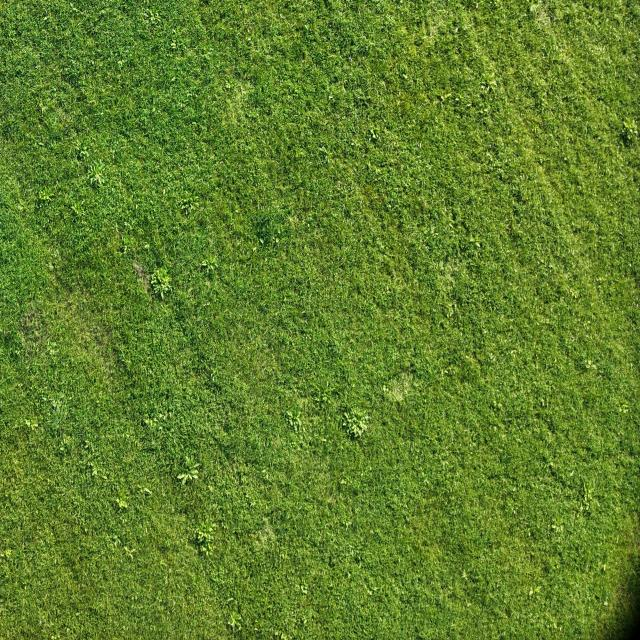rumex: (324, 139, 390, 239), (572, 12, 628, 74), (135, 391, 188, 453), (521, 578, 567, 632), (127, 234, 169, 286), (32, 391, 72, 445), (84, 446, 119, 492), (477, 64, 502, 101), (250, 212, 277, 245), (139, 409, 167, 437), (176, 454, 202, 482), (528, 1, 552, 26), (117, 230, 139, 257), (86, 162, 106, 188), (620, 116, 638, 142), (458, 348, 481, 368), (36, 183, 55, 205), (70, 201, 88, 222), (203, 379, 224, 396), (445, 205, 462, 225), (535, 91, 550, 112), (352, 417, 369, 435), (274, 626, 295, 640), (228, 609, 242, 629), (115, 494, 131, 511), (202, 255, 218, 272), (436, 88, 453, 103), (582, 485, 594, 505), (23, 416, 39, 431), (146, 10, 160, 26), (200, 541, 214, 556), (76, 147, 90, 161), (367, 126, 379, 142), (363, 583, 376, 597), (122, 545, 135, 559), (181, 202, 194, 215), (137, 483, 151, 495), (198, 534, 210, 548), (1, 547, 12, 560), (445, 305, 455, 319), (340, 517, 352, 528), (372, 165, 383, 177), (583, 358, 594, 370), (294, 149, 305, 161), (482, 103, 492, 116), (142, 417, 154, 427), (530, 5, 539, 18), (292, 418, 300, 432), (327, 554, 335, 568), (321, 392, 330, 404), (248, 496, 257, 508), (539, 397, 548, 409), (185, 89, 195, 99), (341, 84, 348, 97), (338, 477, 348, 486), (486, 151, 494, 162), (286, 411, 294, 422), (92, 467, 100, 478), (326, 93, 334, 104), (300, 584, 308, 594), (430, 225, 437, 236), (472, 240, 481, 248), (438, 94, 446, 103), (548, 460, 556, 469), (117, 59, 124, 69), (382, 384, 389, 394), (170, 40, 177, 50), (208, 483, 215, 493), (496, 402, 504, 410), (466, 100, 474, 108), (402, 73, 410, 81), (320, 435, 328, 443), (551, 522, 558, 531), (567, 469, 574, 478), (50, 633, 59, 640), (342, 420, 348, 430), (462, 570, 468, 580), (455, 95, 462, 103), (225, 82, 232, 90), (143, 243, 150, 251), (200, 260, 208, 267), (534, 586, 541, 594), (615, 34, 622, 42), (252, 244, 258, 253), (451, 302, 457, 311), (162, 187, 168, 196), (259, 237, 265, 246), (303, 23, 309, 32), (76, 153, 82, 162), (41, 105, 46, 115), (170, 76, 177, 83), (151, 106, 157, 114), (52, 403, 58, 411), (246, 38, 252, 46), (454, 26, 460, 34), (466, 601, 472, 609), (528, 588, 534, 596), (585, 124, 589, 136), (603, 598, 608, 607), (235, 208, 241, 215), (511, 350, 517, 357), (123, 221, 129, 228), (347, 571, 352, 579), (303, 617, 308, 625), (299, 441, 304, 449), (434, 212, 439, 220), (602, 563, 606, 572), (564, 155, 569, 162), (417, 141, 422, 148), (571, 248, 575, 256), (620, 231, 624, 238)
